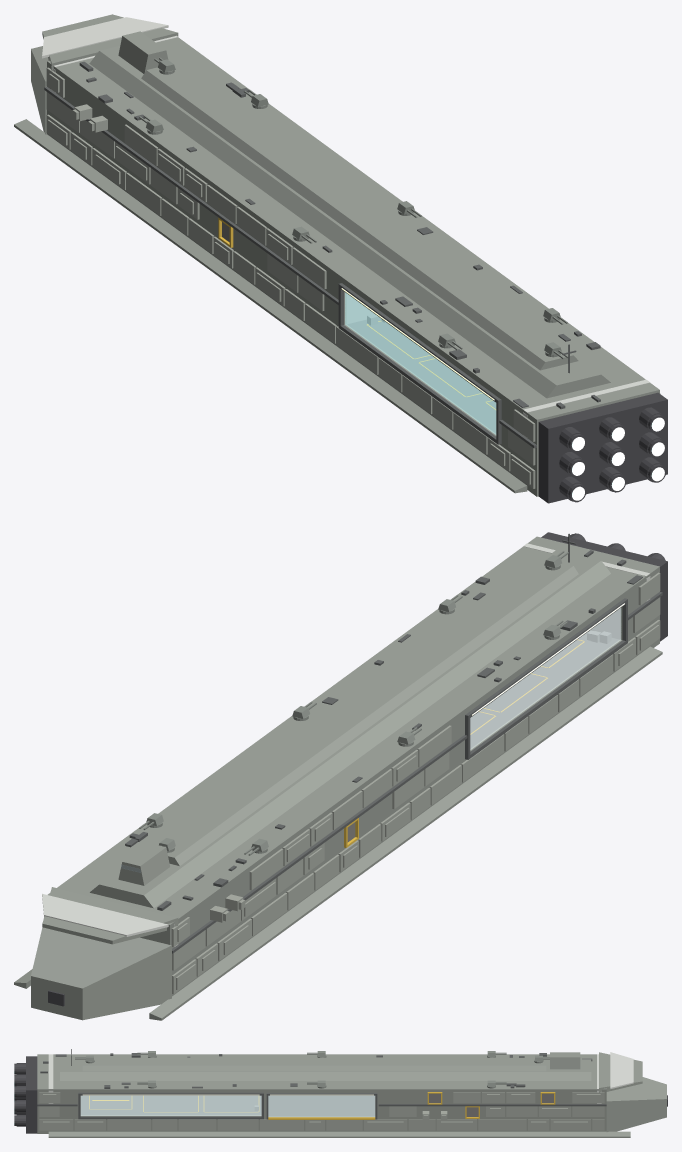
File: ship_LARGE_v1.glb
The picture shows the model from 3 angles, top to bottom: view 1: azimuth 30°, elevation 25°; view 2: azimuth 150°, elevation 25°; view 3: azimuth 270°, elevation 25°; orthographic projection. The views are drawn at different scales.
Parts seen in each view (by area): view 1: LARGE_Hull-col, LARGE_Armor, LARGE_Engines, LARGE_HangarShield_Port, LARGE_Trim, LARGE_Decks-col, LARGE_Accent, LARGE_Details, LARGE_EngineGlow; view 2: LARGE_Hull-col, LARGE_Armor, LARGE_HangarShield_Port, LARGE_Trim, LARGE_Decks-col, LARGE_Accent, LARGE_Engines, LARGE_Details; view 3: LARGE_Hull-col, LARGE_Armor, LARGE_HangarShield_Starboard, LARGE_Decks-col, LARGE_Trim, LARGE_CargoBayShield, LARGE_CargoBayDoor-col, LARGE_Engines, LARGE_Accent, LARGE_Hazard, LARGE_Lights, LARGE_Details.
Part boxes in pixels (left/top/right/bottom): LARGE_Hull-col: left=14, top=14, right=659, bottom=496; LARGE_Armor: left=46, top=67, right=660, bottom=488; LARGE_Engines: left=538, top=392, right=667, bottom=503; LARGE_HangarShield_Port: left=345, top=292, right=496, bottom=434; LARGE_Trim: left=44, top=86, right=536, bottom=448; LARGE_Decks-col: left=347, top=317, right=496, bottom=433; LARGE_Accent: left=42, top=17, right=649, bottom=437; LARGE_Details: left=79, top=61, right=600, bottom=409; LARGE_EngineGlow: left=572, top=417, right=664, bottom=500; LARGE_Hull-col: left=14, top=536, right=662, bottom=1020; LARGE_Armor: left=171, top=572, right=660, bottom=994; LARGE_HangarShield_Port: left=470, top=608, right=621, bottom=749; LARGE_Trim: left=172, top=592, right=662, bottom=953; LARGE_Decks-col: left=470, top=632, right=618, bottom=748; LARGE_Accent: left=42, top=543, right=650, bottom=946; LARGE_Engines: left=48, top=532, right=667, bottom=1006; LARGE_Details: left=125, top=533, right=642, bottom=910; LARGE_Hull-col: left=37, top=1052, right=666, bottom=1137; LARGE_Armor: left=39, top=1092, right=604, bottom=1130; LARGE_HangarShield_Starboard: left=80, top=1095, right=261, bottom=1115; LARGE_Decks-col: left=80, top=1095, right=261, bottom=1115; LARGE_Trim: left=37, top=1092, right=606, bottom=1119; LARGE_CargoBayShield: left=268, top=1095, right=375, bottom=1116; LARGE_CargoBayDoor-col: left=268, top=1095, right=375, bottom=1116; LARGE_Engines: left=14, top=1056, right=667, bottom=1133; LARGE_Accent: left=48, top=1052, right=633, bottom=1103; LARGE_Hazard: left=89, top=1092, right=555, bottom=1119; LARGE_Lights: left=83, top=1094, right=373, bottom=1095; LARGE_Details: left=40, top=1049, right=592, bottom=1088.
Size of the model in its own units: 27.3 by 21.4 by 174.
